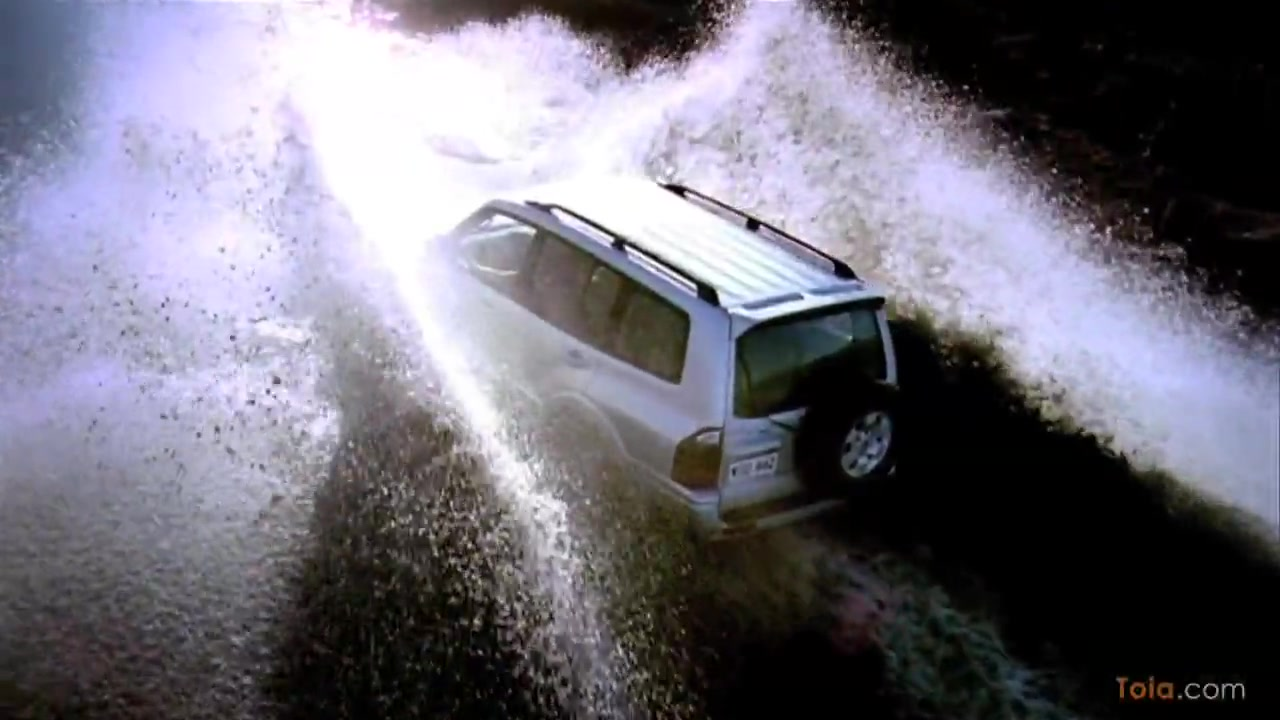car: (424, 164, 910, 559)
